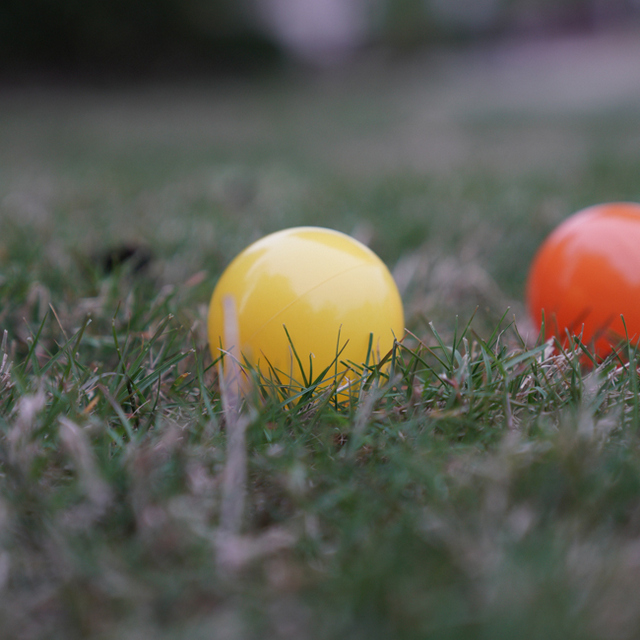Ball: (199, 228, 405, 394)
